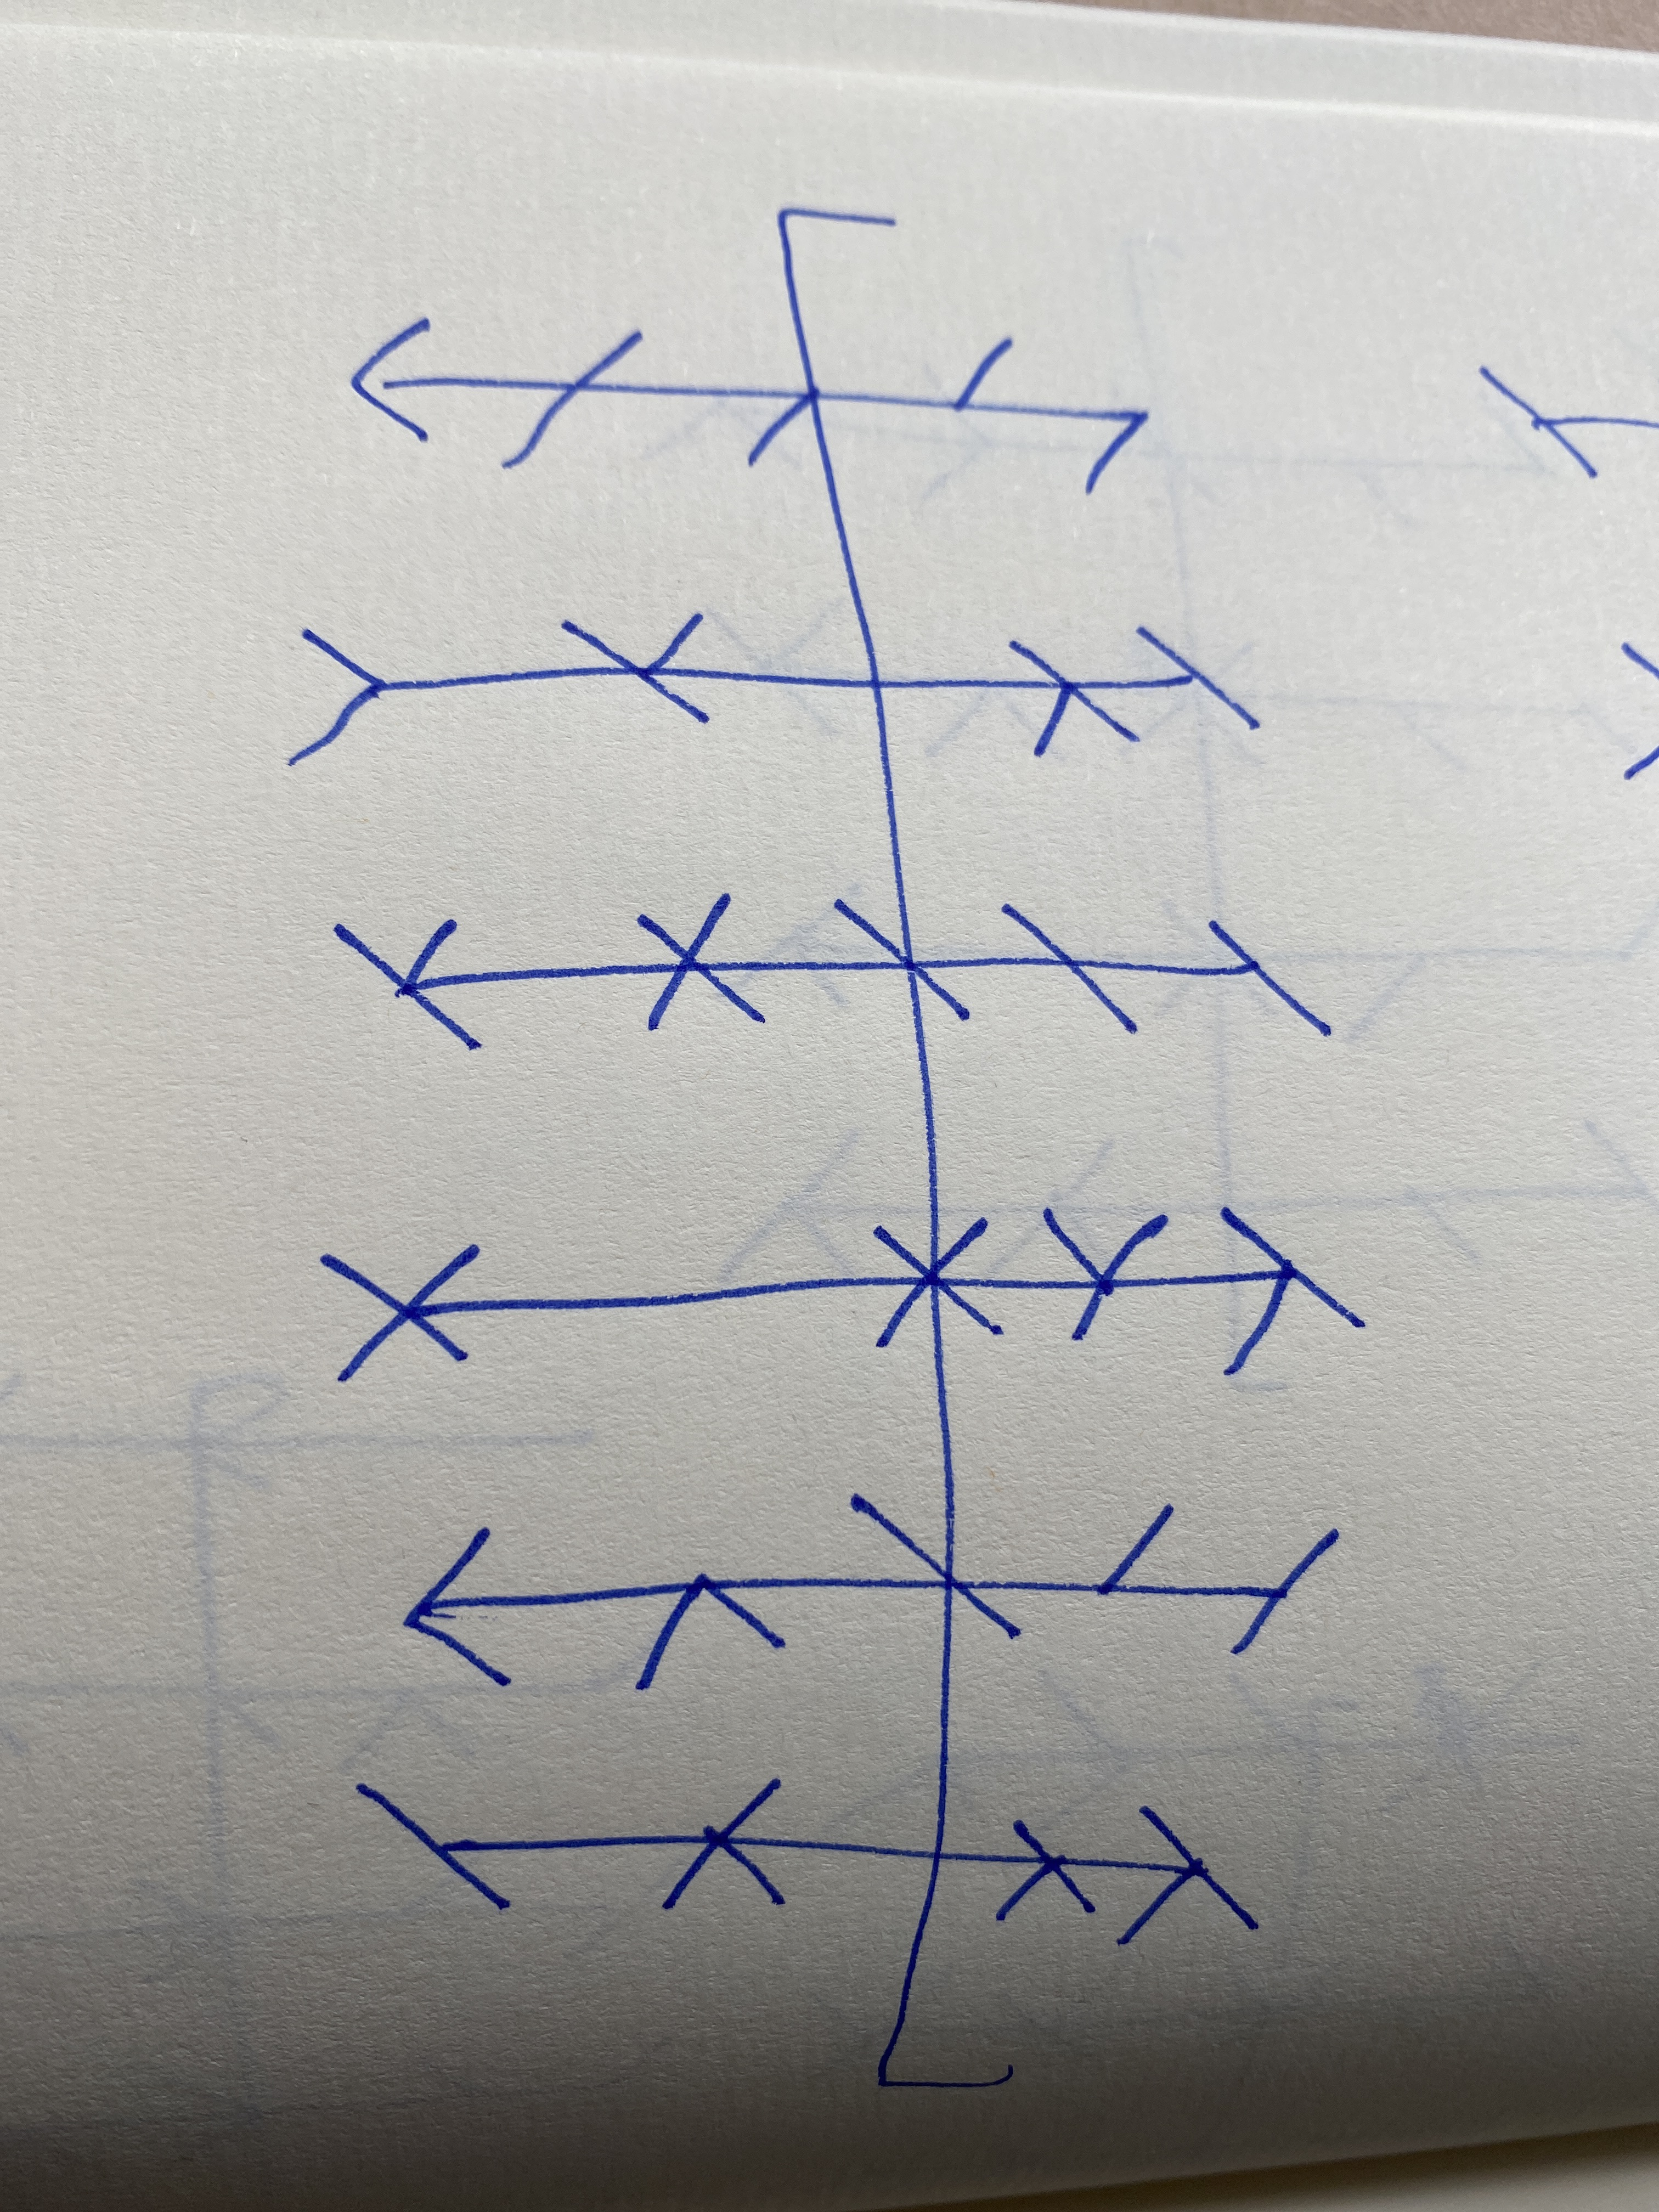Bar: (319, 1202, 1366, 1381), (403, 1493, 1340, 1691), (331, 892, 1328, 1052), (286, 611, 1258, 766), (356, 1780, 1260, 1946), (350, 319, 1152, 498)
Barcode: (288, 204, 1364, 2088)
End: (878, 1919, 1014, 2088)
Start: (775, 206, 906, 387)
